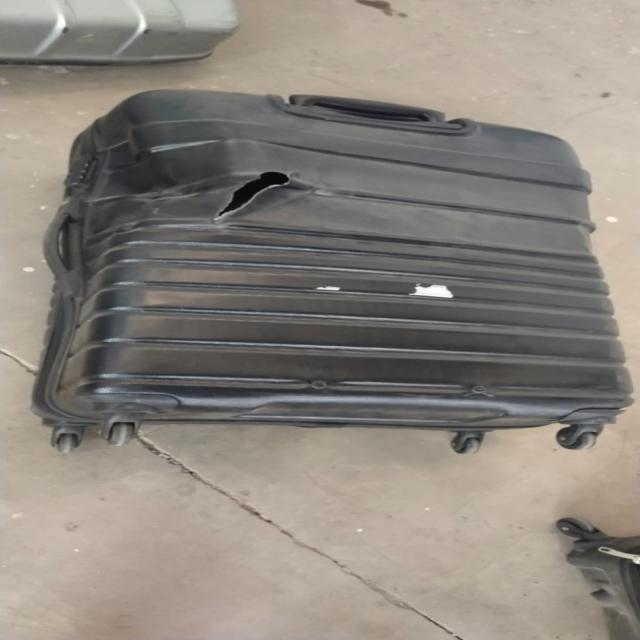Damage-bag: (219, 171, 289, 214), (411, 284, 453, 298)
